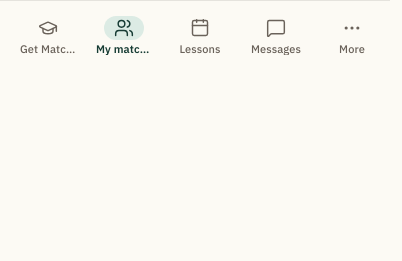
BottomNav › opens the More menu and exposes overflow items
The width and height of the screenshot is (402, 261).
Step 1. Click the button "More" → (352, 35), box top-left (316, 9), bottom-right (388, 61)
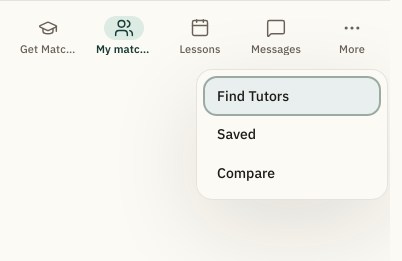
Expected: the number of menu items is 3, top-left (205, 78), bottom-right (379, 114); top-left (205, 116), bottom-right (379, 153); top-left (205, 155), bottom-right (379, 191)
Expected: the menu item "Find Tutors" is shown, top-left (205, 78), bottom-right (379, 114)
Expected: the menu item "Compare" is shown, top-left (205, 155), bottom-right (379, 191)
